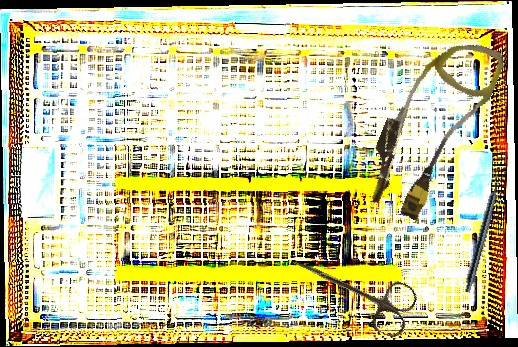Cannula: (355, 22, 508, 230)
Handpiece: (462, 173, 506, 294)
Iris Scissors: (282, 239, 421, 341)
